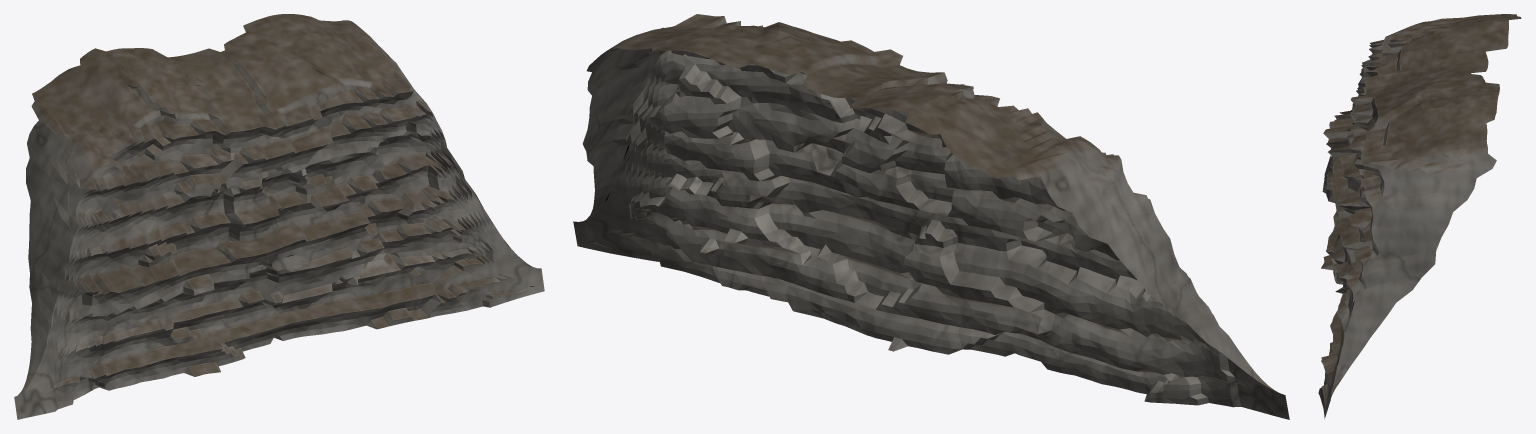
The model's file is SM_rock_face_01.fbx.
The picture shows the model from 3 angles, left to right: view 1: azimuth 30°, elevation 25°; view 2: azimuth 150°, elevation 25°; view 3: azimuth 270°, elevation 25°; orthographic projection. The views are drawn at different scales.
Visible parts, largest first — view 1: SM_rock_face_01; view 2: SM_rock_face_01; view 3: SM_rock_face_01.
Boxes of the visible parts, left/top/right/bottom form: SM_rock_face_01: left=14, top=14, right=544, bottom=419; SM_rock_face_01: left=573, top=14, right=1289, bottom=419; SM_rock_face_01: left=1318, top=14, right=1521, bottom=418.
Bounding box in the file's own units: 8 × 3.67 × 2.8.
